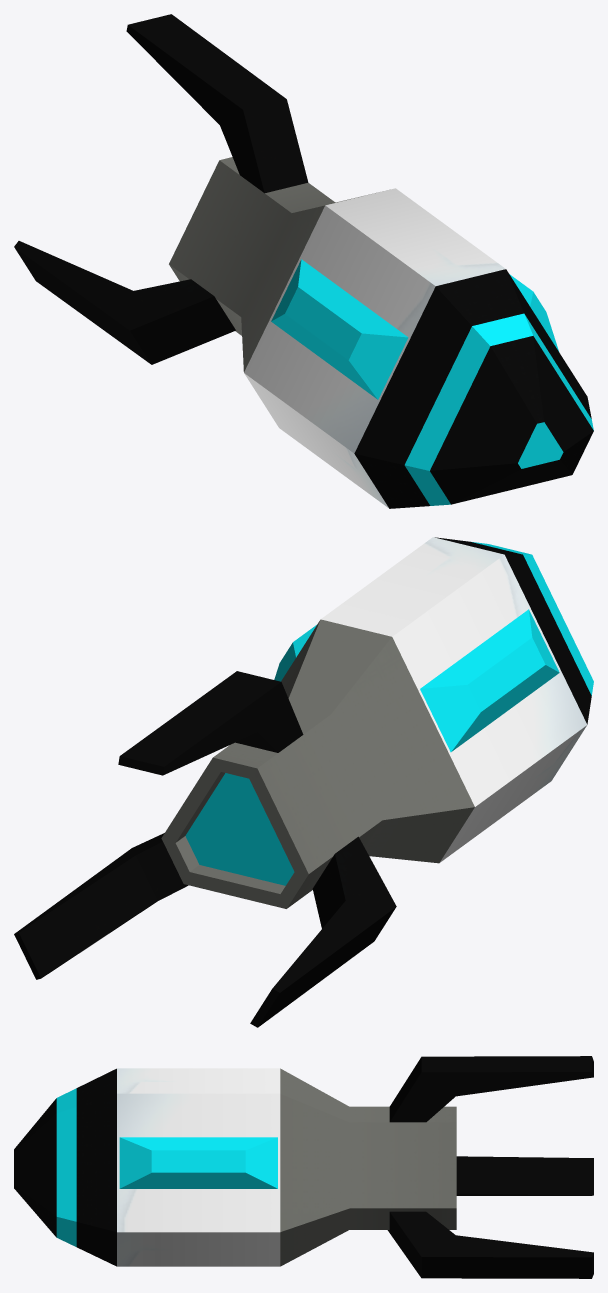
The model's file is canavar_fuzesi.FBX.
3 renders of one model, top to bottom at view 1: azimuth 30°, elevation 25°; view 2: azimuth 150°, elevation 25°; view 3: azimuth 270°, elevation 25°, orthographic. The views are drawn at different scales.
Parts seen in each view (by area): view 1: canavar_füzesi; view 2: canavar_füzesi; view 3: canavar_füzesi.
Boxes of the visible parts, bbox=[...] form: canavar_füzesi: bbox=[14, 14, 593, 508]; canavar_füzesi: bbox=[14, 537, 593, 1027]; canavar_füzesi: bbox=[14, 1056, 593, 1278].
Size of the model in its own units: 23.56 by 21.91 by 61.24.
